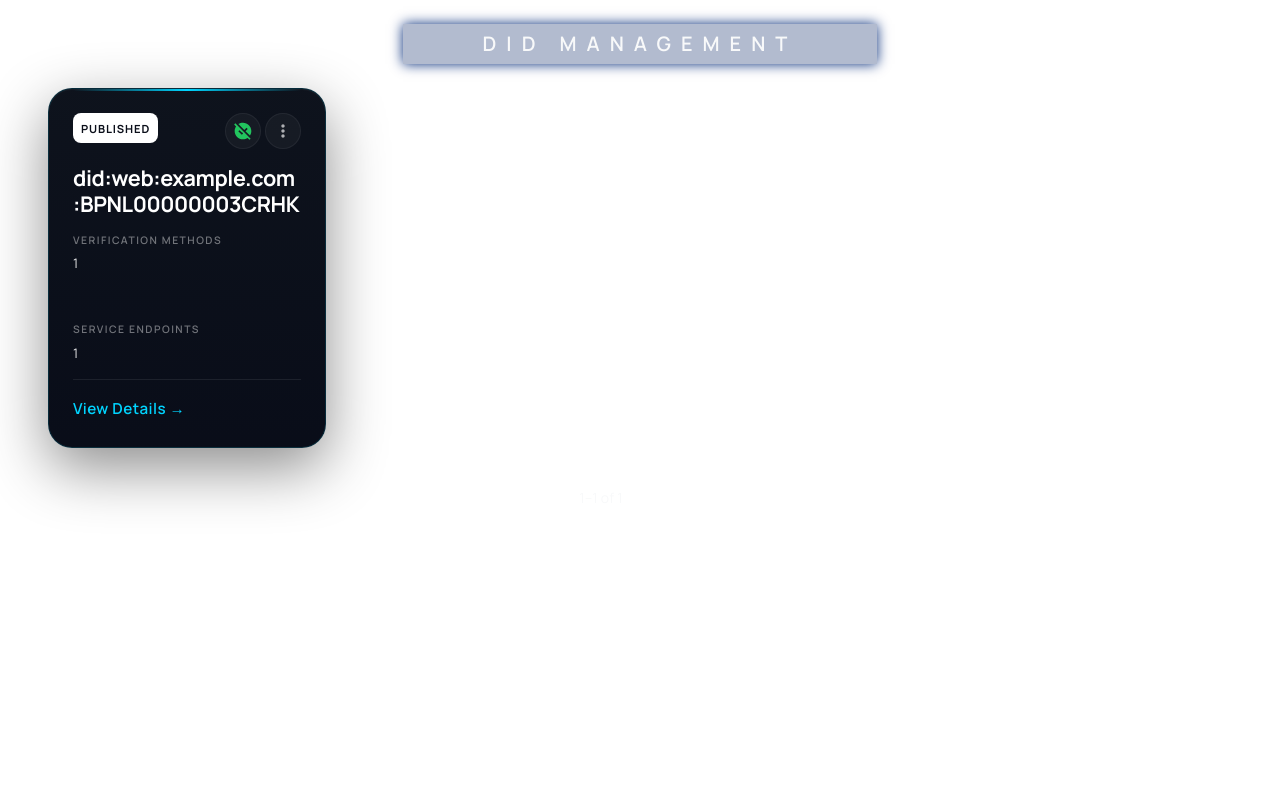
Test: DidPage › should close endpoint dialog when Cancel is clicked
The image size is (1280, 800).
Expected: the text "did:web:example.com:BPNL00000003CRHK" is shown, [73,165,301,217]
Click the button with test id "MoreVertIcon" at (283, 131), box [265,113,301,149]
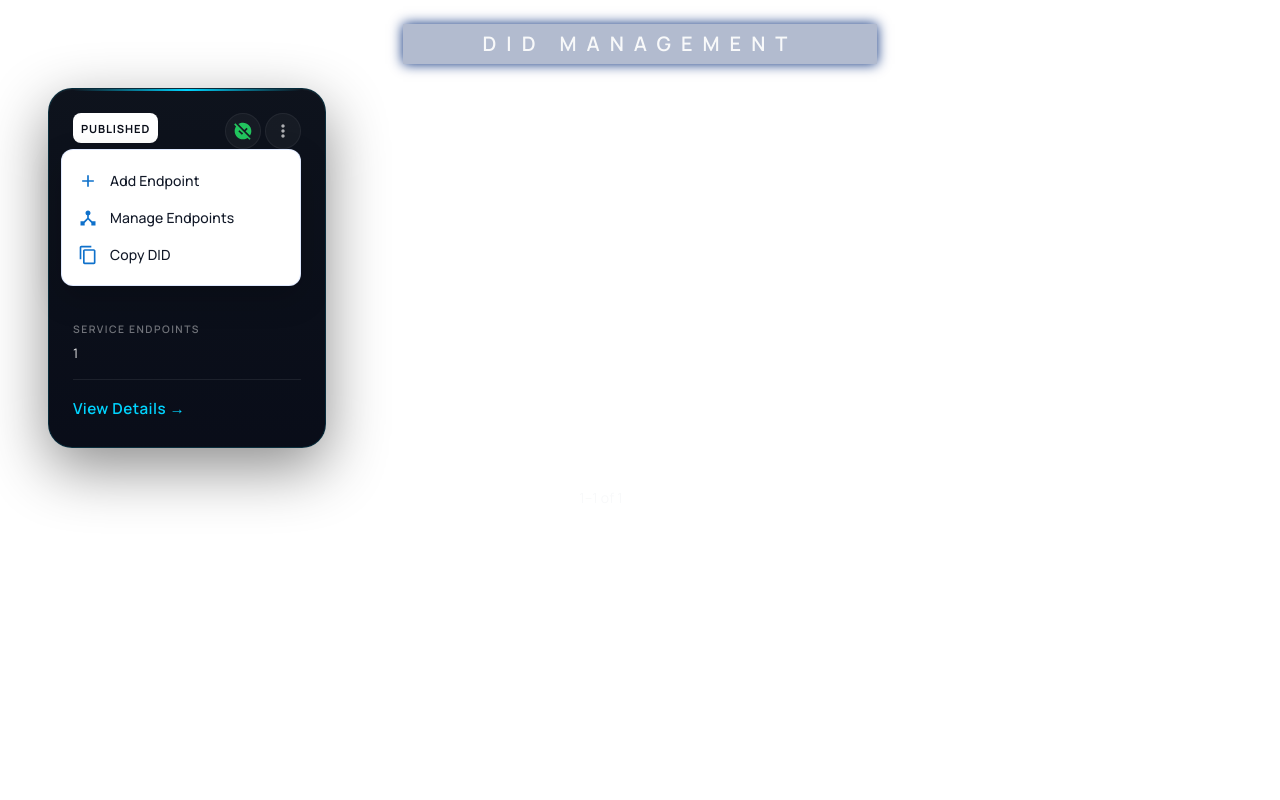
Click the text "Add Endpoint" at (155, 180), box [110,170,200,191]
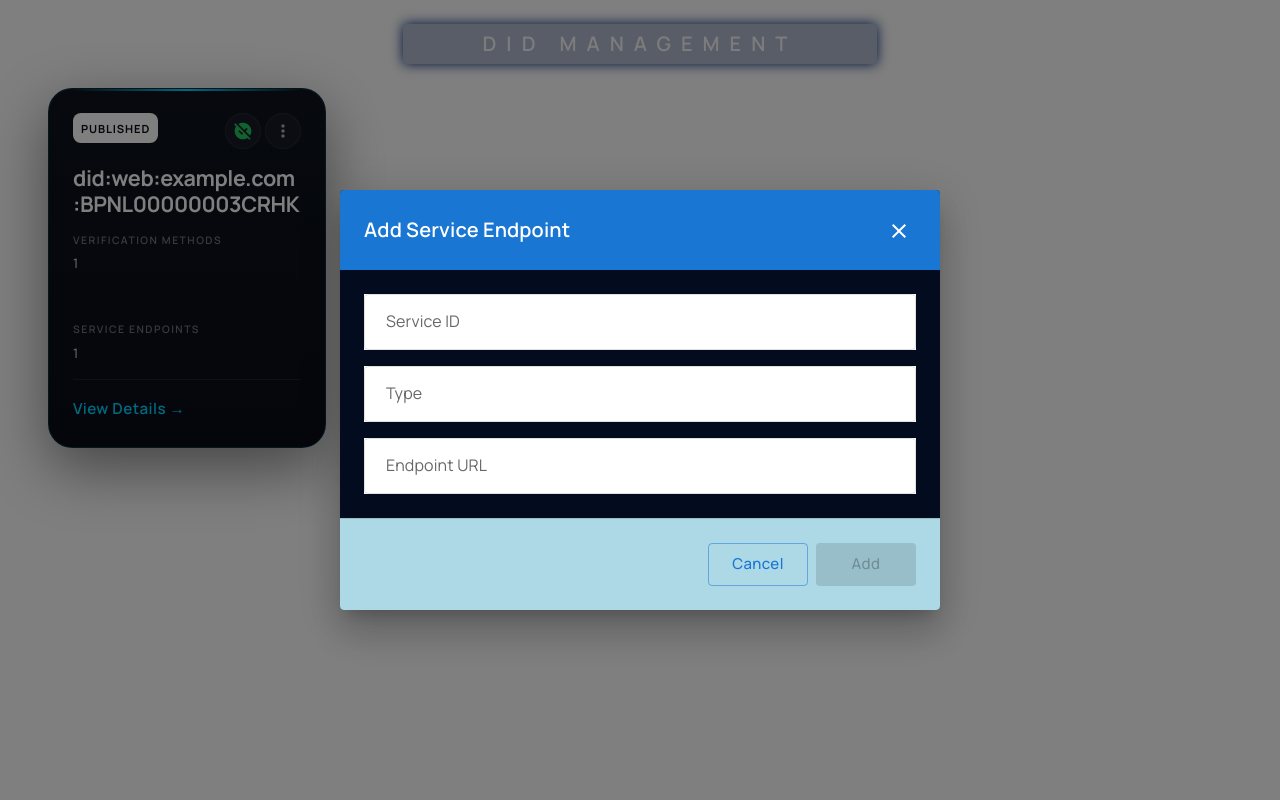
Expected: the heading "Add Service Endpoint" is shown, [340,190,940,270]
Click the button "Cancel" at (758, 565), box [708,543,808,586]
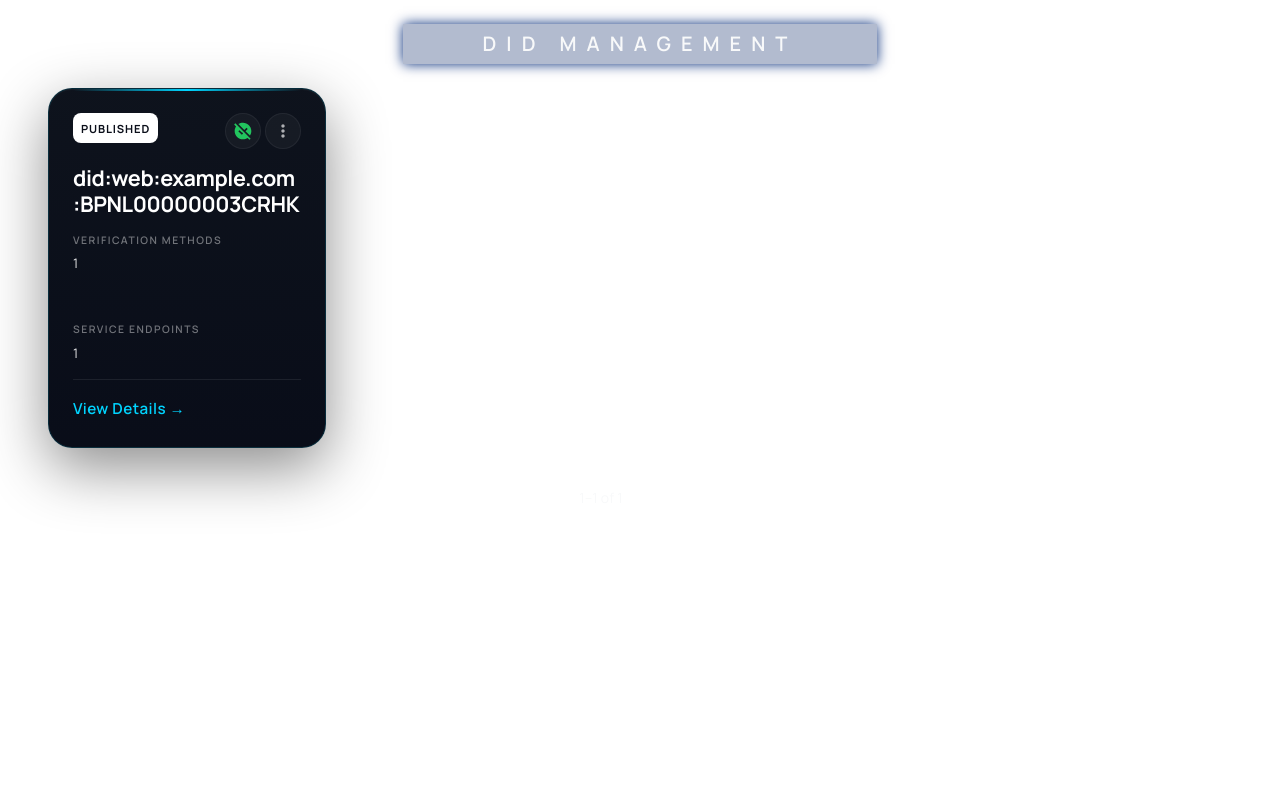
Expected: the heading "Add Service Endpoint" is gone
